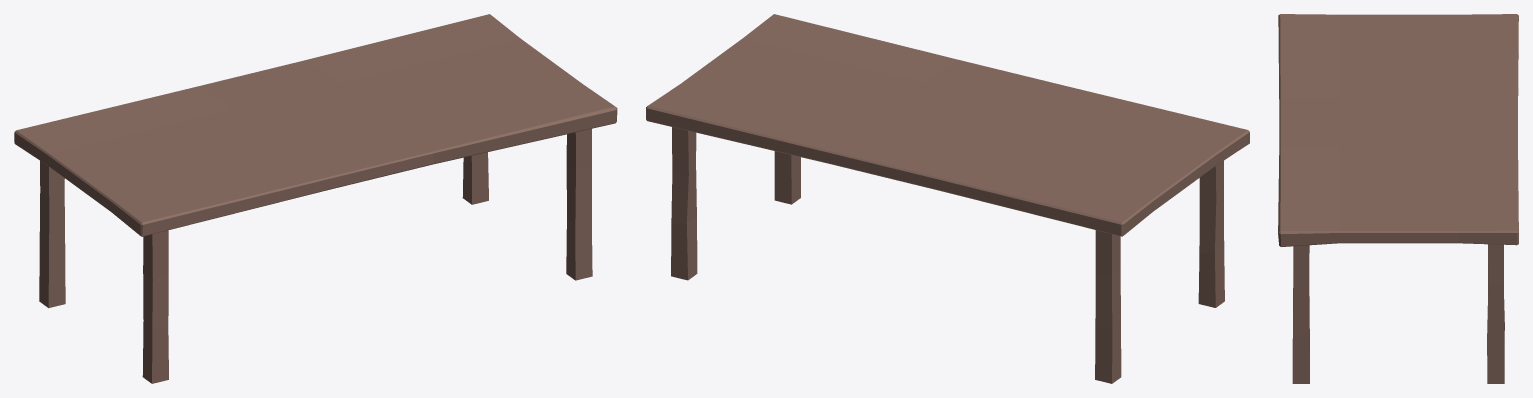
File: Table01.fbx
3 views of the same model, side by side, from view 1: azimuth 30°, elevation 25°; view 2: azimuth 150°, elevation 25°; view 3: azimuth 270°, elevation 25° (orthographic). The views are drawn at different scales.
Parts seen in each view (by area): view 1: Table01; view 2: Table01; view 3: Table01.
Boxes of the visible parts, box(x1,y1,x2,y2) form: Table01: box(14, 14, 617, 383); Table01: box(646, 14, 1249, 383); Table01: box(1278, 14, 1518, 383).
Bounding box in the file's own units: 284 × 97.24 × 132.
